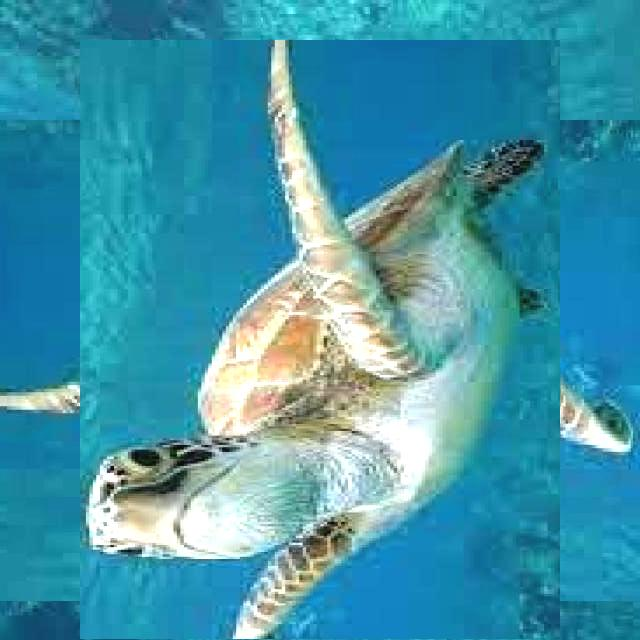Sea turtle: (39, 80, 600, 640)
